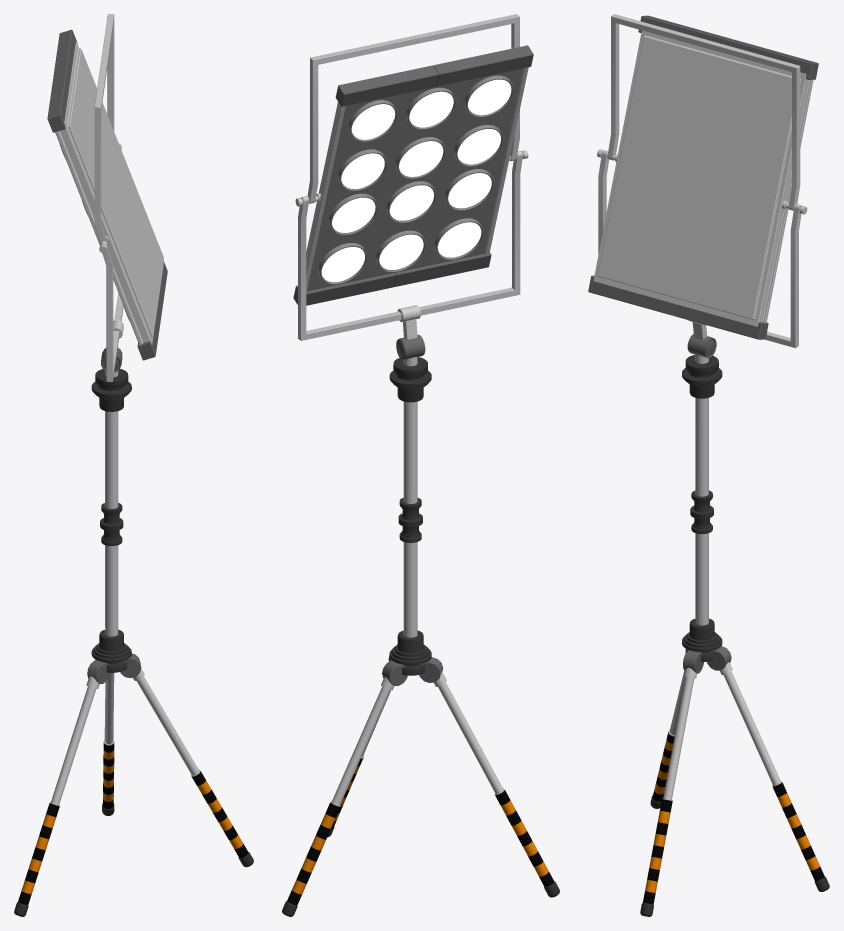
3 renders of one model, left to right at view 1: azimuth 30°, elevation 25°; view 2: azimuth 150°, elevation 25°; view 3: azimuth 270°, elevation 25°, orthographic. The views are drawn at different scales.
Visible parts, largest first — view 1: Cube.003_1, Body_2, Cube.002_0; view 2: Cube.003_1, Body_2, Cube.002_0; view 3: Cube.003_1, Body_2, Cube.002_0.
Boxes of the visible parts, <box> form: Cube.003_1: <box>47,29,167,360</box>; Body_2: <box>14,347,253,916</box>; Cube.002_0: <box>94,14,123,381</box>; Cube.003_1: <box>293,45,533,305</box>; Body_2: <box>282,334,559,916</box>; Cube.002_0: <box>295,14,528,340</box>; Cube.003_1: <box>588,15,818,339</box>; Body_2: <box>640,334,829,916</box>; Cube.002_0: <box>597,14,807,348</box>.
Size of the model in its own units: 0.4534 by 1.51 by 0.4032.
